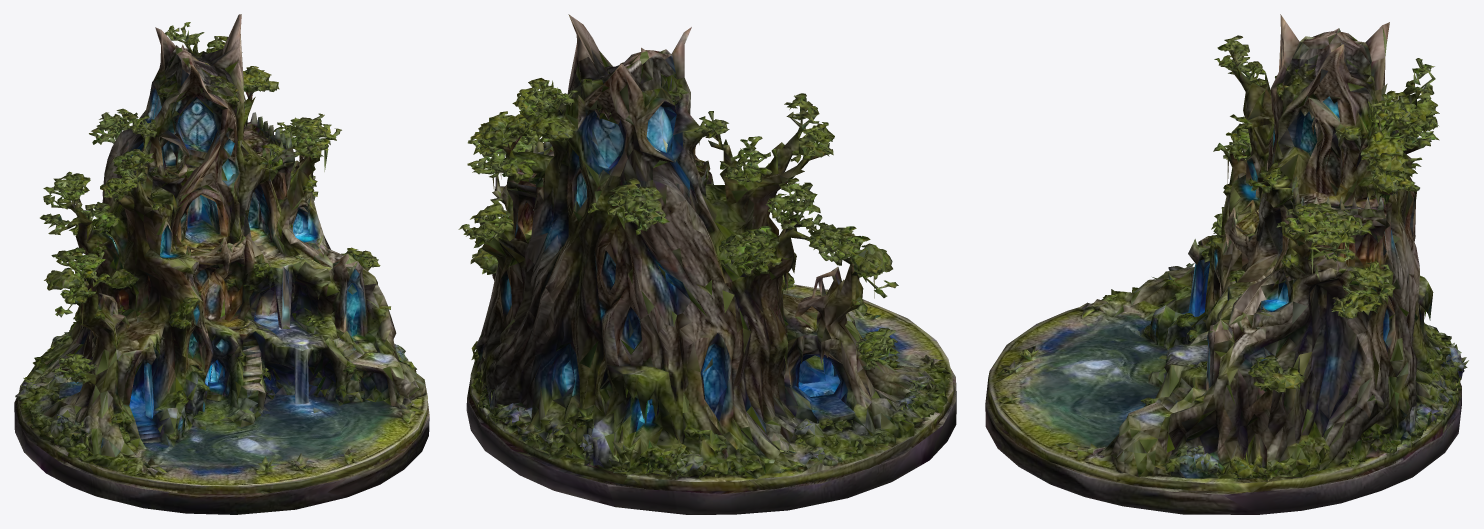
The model's file is Sapphire_Grove_Citade.glb.
3 views of the same model, side by side, from view 1: azimuth 30°, elevation 25°; view 2: azimuth 150°, elevation 25°; view 3: azimuth 270°, elevation 25° (orthographic). The views are drawn at different scales.
Visible parts, largest first — view 1: Sapphire_Grove_Citade; view 2: Sapphire_Grove_Citade; view 3: Sapphire_Grove_Citade.
Part boxes in pixels (x1,y1,x2,y2): Sapphire_Grove_Citade: [14, 14, 429, 514]; Sapphire_Grove_Citade: [458, 14, 956, 514]; Sapphire_Grove_Citade: [985, 14, 1468, 514].
Size of the model in its own units: 1.87 by 1.77 by 1.89.
1 material, 1 textured.
